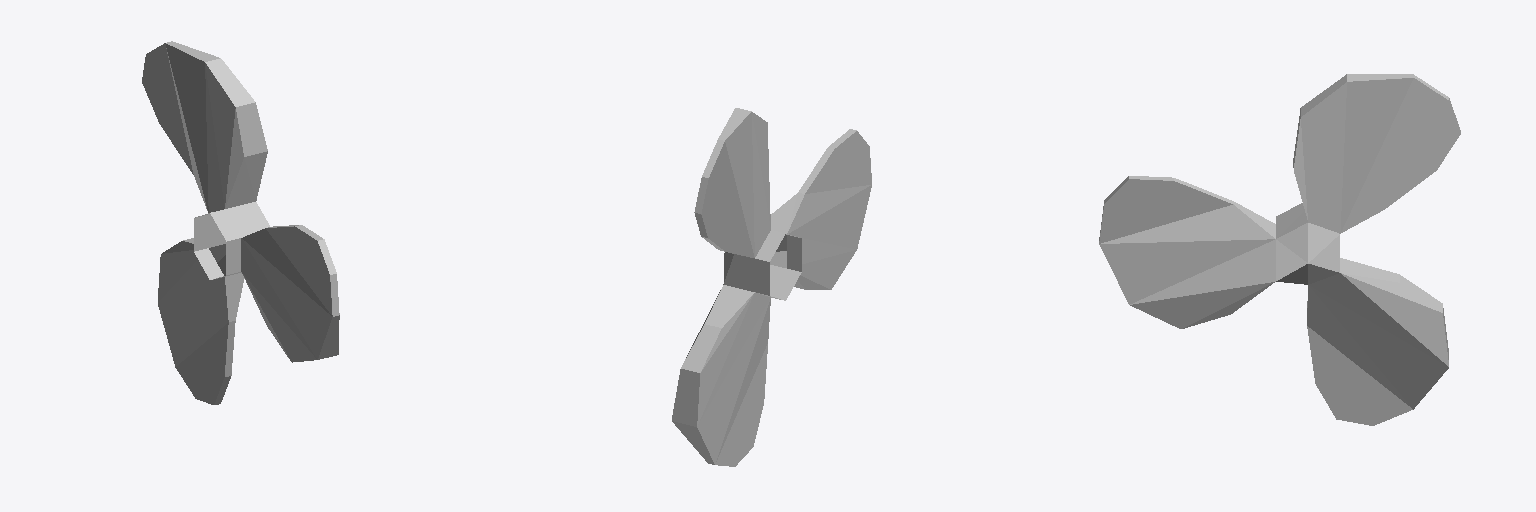
File: propeller.obj
3 views of the same model, side by side, from view 1: azimuth 30°, elevation 25°; view 2: azimuth 150°, elevation 25°; view 3: azimuth 270°, elevation 25° (orthographic).
Visible parts, largest first — view 1: propeller Propeller2; view 2: propeller Propeller2; view 3: propeller Propeller2.
Part boxes in pixels (bbox=[...]): propeller Propeller2: bbox=[142, 41, 339, 404]; propeller Propeller2: bbox=[672, 108, 871, 466]; propeller Propeller2: bbox=[1099, 74, 1460, 425].
Bounding box in the file's own units: 2.79 × 14.45 × 13.65.